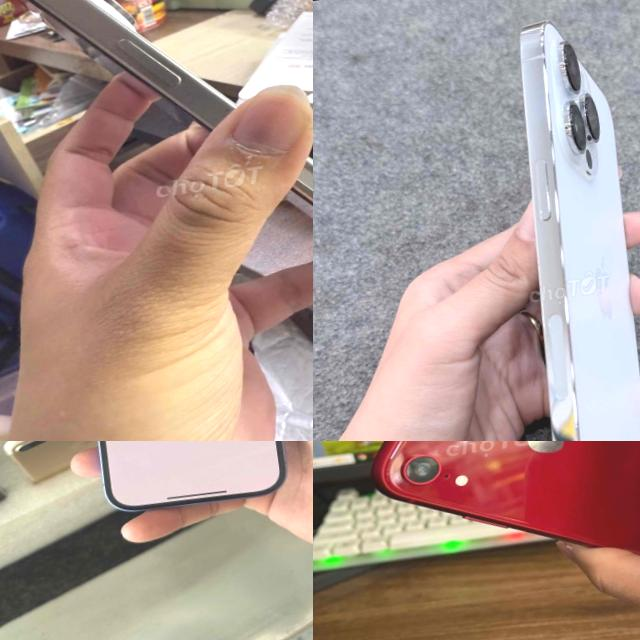scratch: (377, 462, 400, 492)
